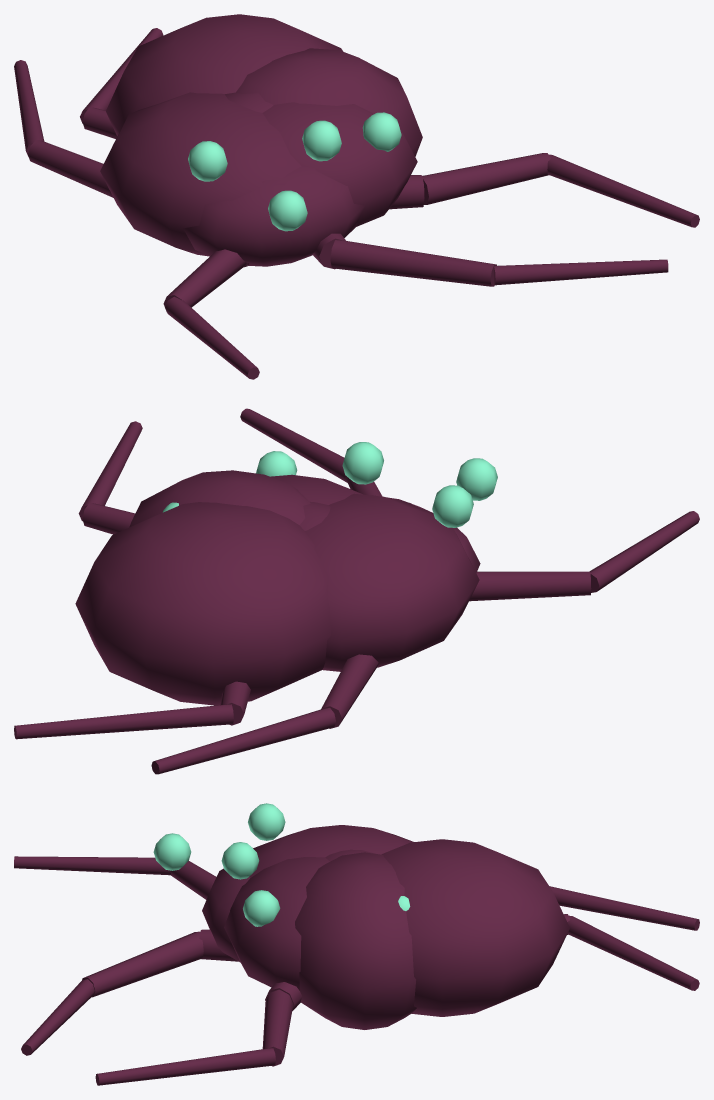
Rendered from SM_Growth.fbx.
3 renders of one model, top to bottom at view 1: azimuth 30°, elevation 25°; view 2: azimuth 150°, elevation 25°; view 3: azimuth 270°, elevation 25°, orthographic. The views are drawn at different scales.
Visible parts, largest first — view 1: SM_Growth; view 2: SM_Growth; view 3: SM_Growth.
Part boxes in pixels (x1,y1,x2,y2): SM_Growth: (14, 14, 699, 379); SM_Growth: (14, 408, 699, 774); SM_Growth: (14, 803, 699, 1085).
Size of the model in its own units: 1.67 by 0.5309 by 2.18.
